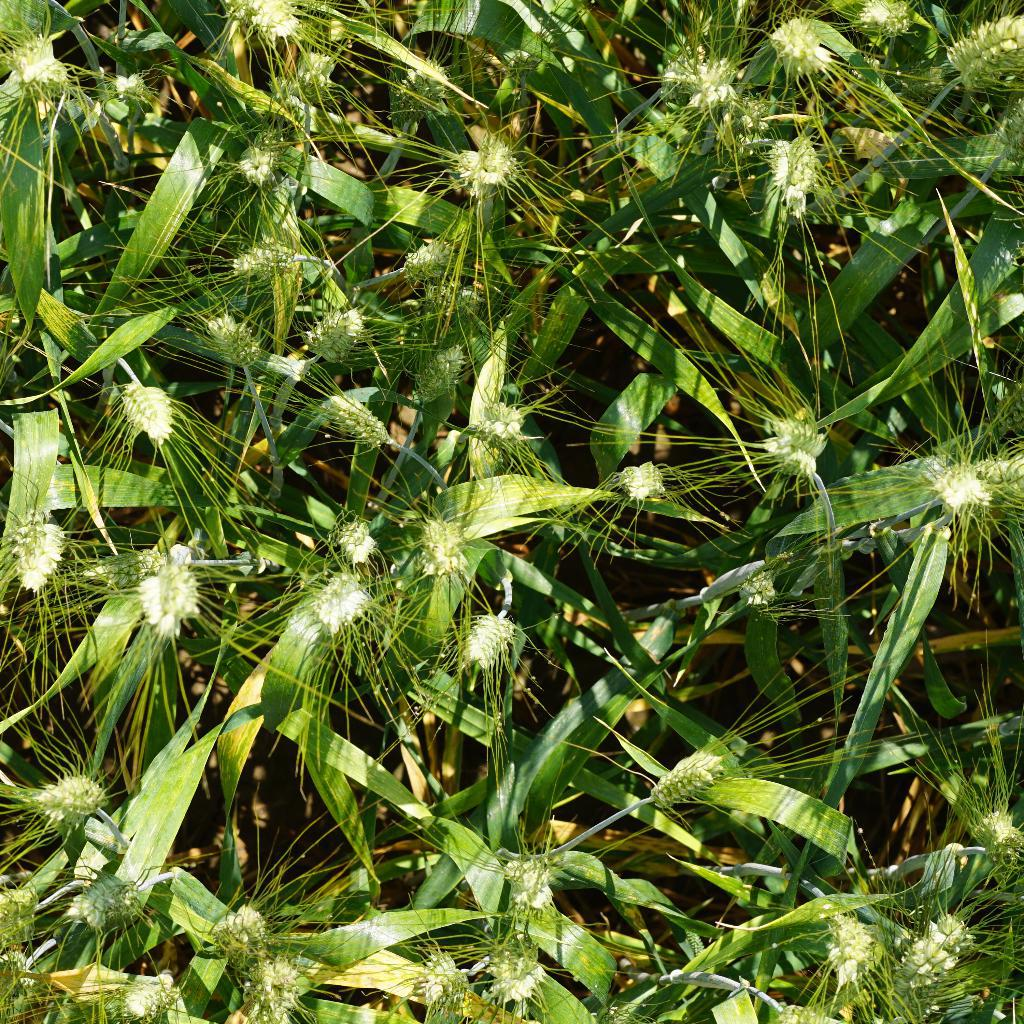0-0: (883, 906, 986, 1024), (627, 737, 739, 817), (294, 381, 400, 458), (936, 10, 1024, 99), (382, 59, 466, 150), (808, 890, 885, 985), (88, 523, 189, 595), (455, 585, 527, 686), (402, 504, 479, 594), (762, 123, 836, 215), (660, 41, 740, 123), (139, 538, 205, 636), (7, 504, 74, 600), (755, 408, 841, 482), (468, 938, 550, 1015), (302, 560, 388, 632), (3, 33, 73, 121), (493, 851, 567, 934), (443, 129, 527, 200), (765, 7, 840, 85), (61, 863, 145, 930), (111, 358, 180, 438), (114, 961, 201, 1024), (926, 453, 999, 528), (299, 291, 372, 365), (20, 769, 110, 829), (205, 899, 291, 961), (235, 963, 320, 1024), (421, 937, 479, 1023), (198, 305, 269, 375), (966, 791, 1024, 872), (460, 392, 534, 453), (388, 230, 466, 286), (957, 449, 1024, 514), (317, 516, 392, 574), (230, 230, 301, 290), (414, 337, 464, 414), (276, 37, 339, 98), (223, 129, 280, 194), (419, 273, 487, 325), (230, 0, 312, 43), (606, 456, 675, 507), (730, 562, 791, 617), (0, 878, 44, 950), (0, 947, 47, 1014), (720, 88, 773, 143), (505, 25, 552, 83), (264, 62, 308, 123), (852, 0, 914, 43), (109, 68, 158, 118), (846, 46, 889, 90)
